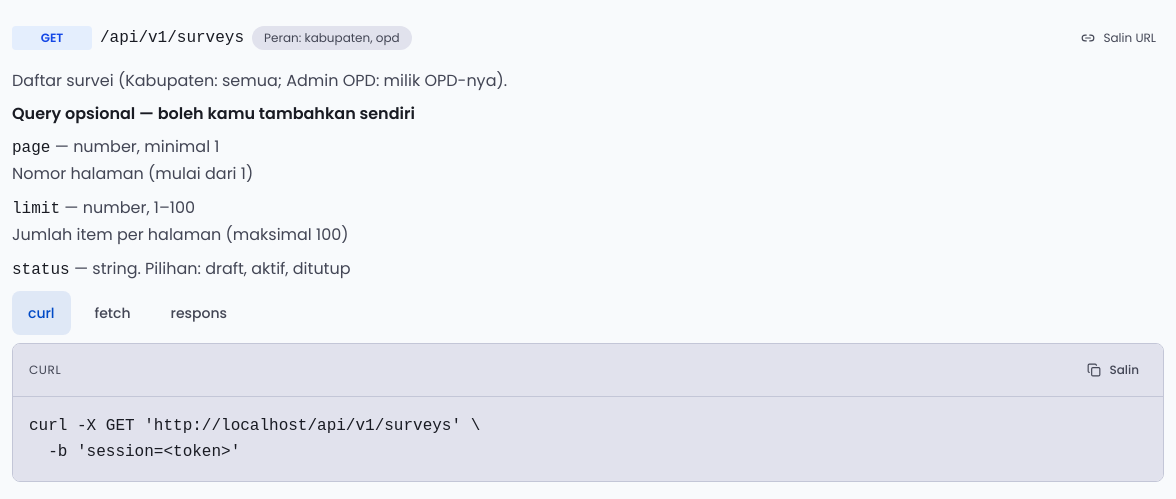
it: DetailOperasi › tombol Salin URL › label tombolnya "Salin URL", lalu "Tersalin" sesudah diklik
This screenshot has width=1176, height=499.
Step 1. Click the button with aria-label "Salin URL GET /api/v1/surveys" → (1119,38), box top-left (1074, 16), bottom-right (1164, 60)
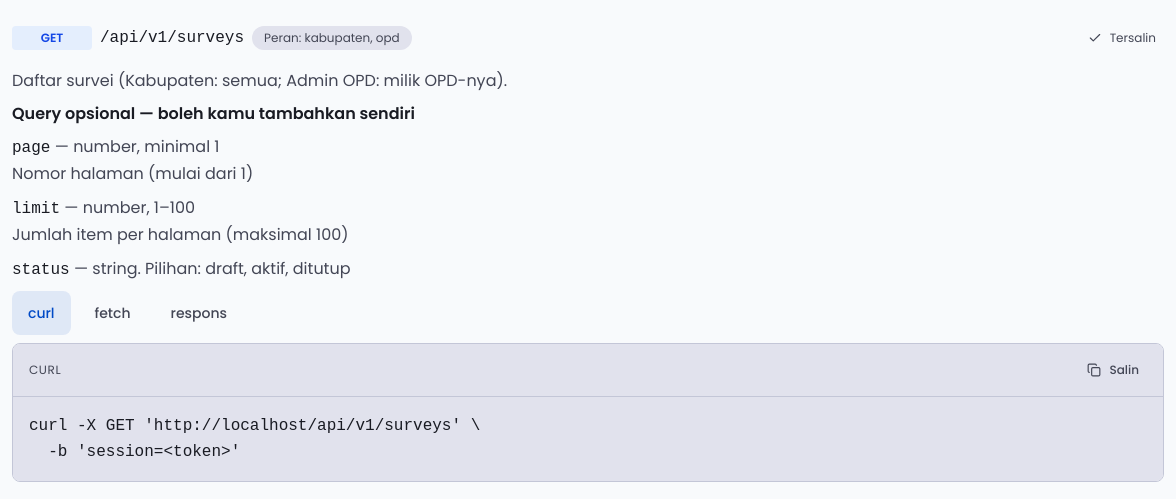
Now the button with aria-label "Salin URL GET /api/v1/surveys" reads "Tersalin", box top-left (1080, 16), bottom-right (1164, 60)
